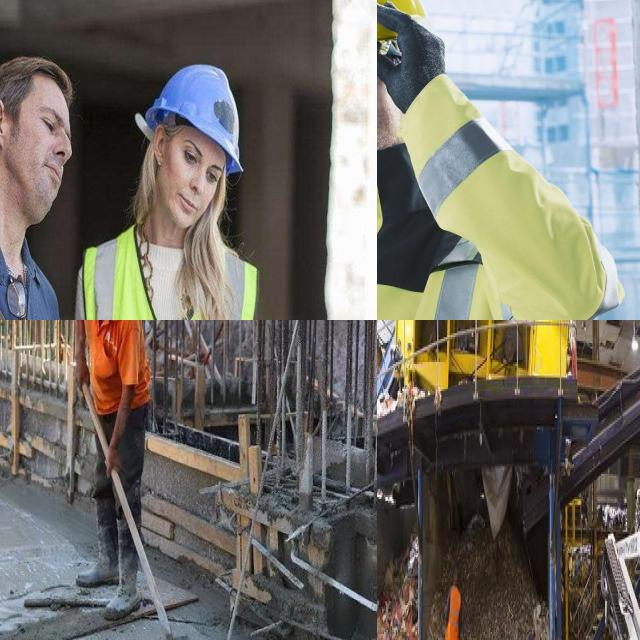No_Ear-Protection: (150, 121, 170, 172), (0, 91, 9, 154)
No_Glasses: (177, 135, 220, 190), (34, 100, 63, 144)
boots: (76, 508, 122, 590), (102, 547, 142, 622)
face_nomask: (15, 92, 76, 234), (160, 126, 228, 230)
hand_glove: (377, 2, 474, 89)
hand_noglove: (99, 443, 129, 479), (72, 355, 93, 389)
head_helmet: (147, 63, 245, 176)
head_nohelmet: (0, 31, 72, 98)
person: (377, 11, 582, 320), (73, 55, 294, 320), (0, 65, 90, 320), (75, 320, 142, 609), (442, 568, 463, 640)
vest: (377, 212, 540, 320), (84, 228, 259, 320), (443, 585, 463, 640)
